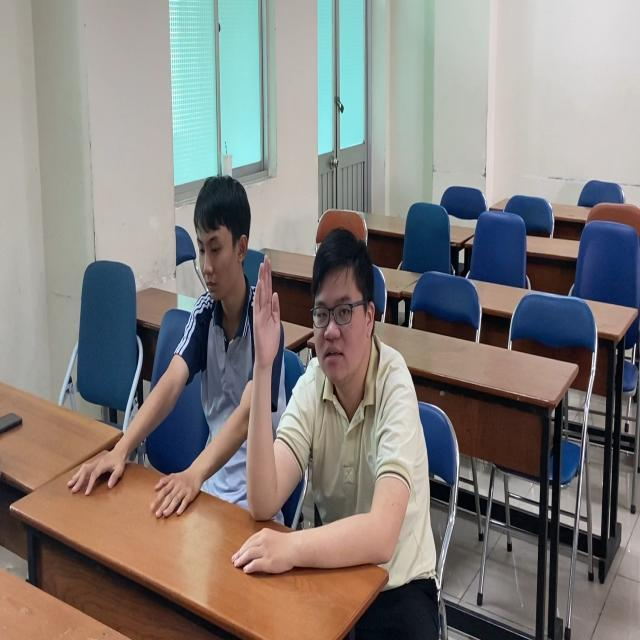raise_hand: (247, 226, 444, 584)
